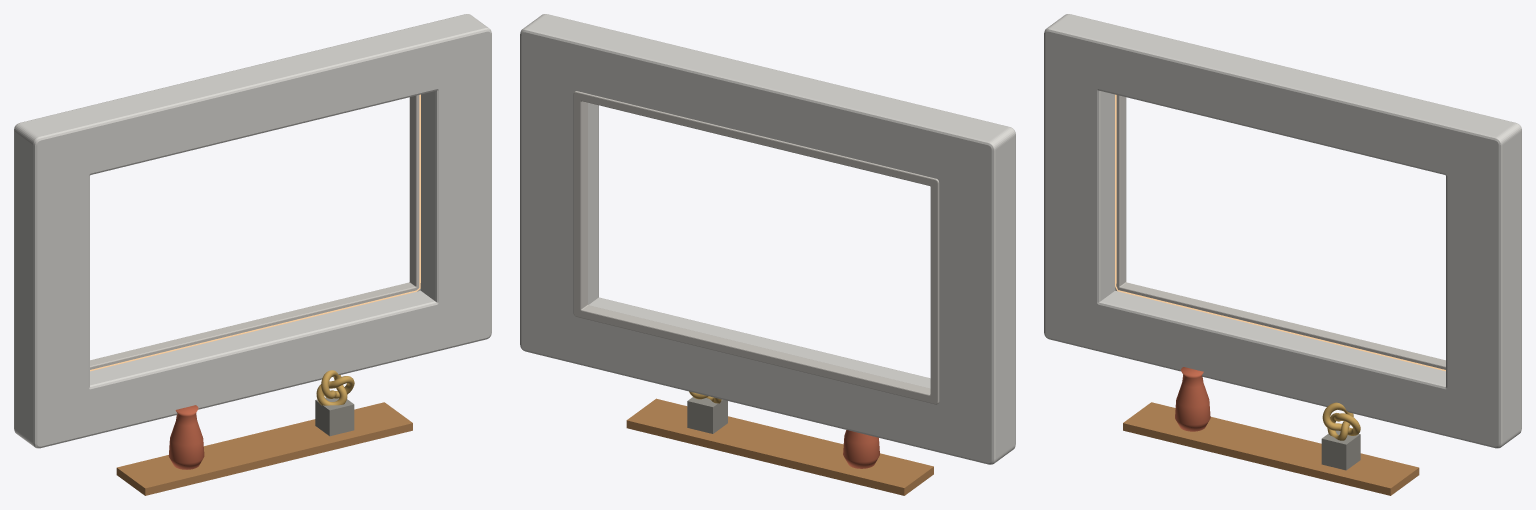
File: gallery.glb
3 renders of one model, left to right at view 1: azimuth 30°, elevation 25°; view 2: azimuth 150°, elevation 25°; view 3: azimuth 330°, elevation 25°, orthographic. The views are drawn at different scales.
Visible parts, largest first — view 1: frame, shelf, reveal, vase, plinth, led, sculpture; view 2: frame, reveal, shelf, plinth, vase; view 3: frame, shelf, reveal, vase, plinth, led, sculpture.
Boxes of the visible parts, left/top/right/bottom form: frame: left=14, top=14, right=491, bottom=448; shelf: left=116, top=402, right=412, bottom=495; reveal: left=90, top=95, right=420, bottom=369; vase: left=168, top=405, right=204, bottom=469; plinth: left=315, top=397, right=354, bottom=436; led: left=90, top=94, right=420, bottom=371; sculpture: left=316, top=370, right=354, bottom=405; frame: left=520, top=14, right=1015, bottom=464; reveal: left=573, top=91, right=939, bottom=404; shelf: left=626, top=398, right=933, bottom=495; plinth: left=687, top=397, right=727, bottom=433; vase: left=843, top=430, right=879, bottom=468; frame: left=1044, top=14, right=1521, bottom=448; shelf: left=1123, top=402, right=1419, bottom=495; reveal: left=1115, top=95, right=1445, bottom=369; vase: left=1175, top=367, right=1210, bottom=431; plinth: left=1321, top=430, right=1360, bottom=470; led: left=1115, top=94, right=1445, bottom=371; sculpture: left=1322, top=402, right=1360, bottom=440.
Bounding box in the file's own units: 2.22 × 1.71 × 0.319.
